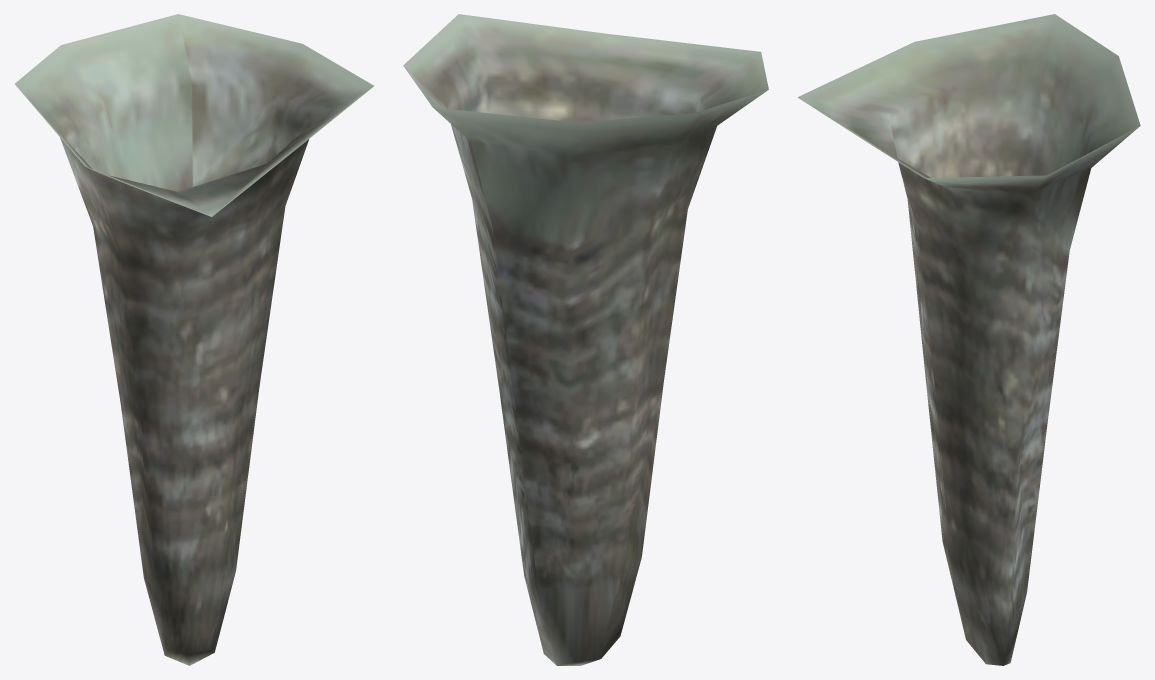
Rendered from TROLLHOLE02_PS-UPPERSTALAG23.fbx.
3 renders of one model, left to right at view 1: azimuth 30°, elevation 25°; view 2: azimuth 150°, elevation 25°; view 3: azimuth 270°, elevation 25°, orthographic. The views are drawn at different scales.
Parts seen in each view (by area): view 1: TROLLHOLE02_PS-UPPERSTALAG23; view 2: TROLLHOLE02_PS-UPPERSTALAG23; view 3: TROLLHOLE02_PS-UPPERSTALAG23.
Boxes of the visible parts, left/top/right/bottom form: TROLLHOLE02_PS-UPPERSTALAG23: left=15, top=14, right=373, bottom=665; TROLLHOLE02_PS-UPPERSTALAG23: left=403, top=14, right=768, bottom=665; TROLLHOLE02_PS-UPPERSTALAG23: left=797, top=14, right=1140, bottom=665.
Bounding box in the file's own units: 11643 × 22359 × 11996.
Materials: 1 (1 with a texture image).
